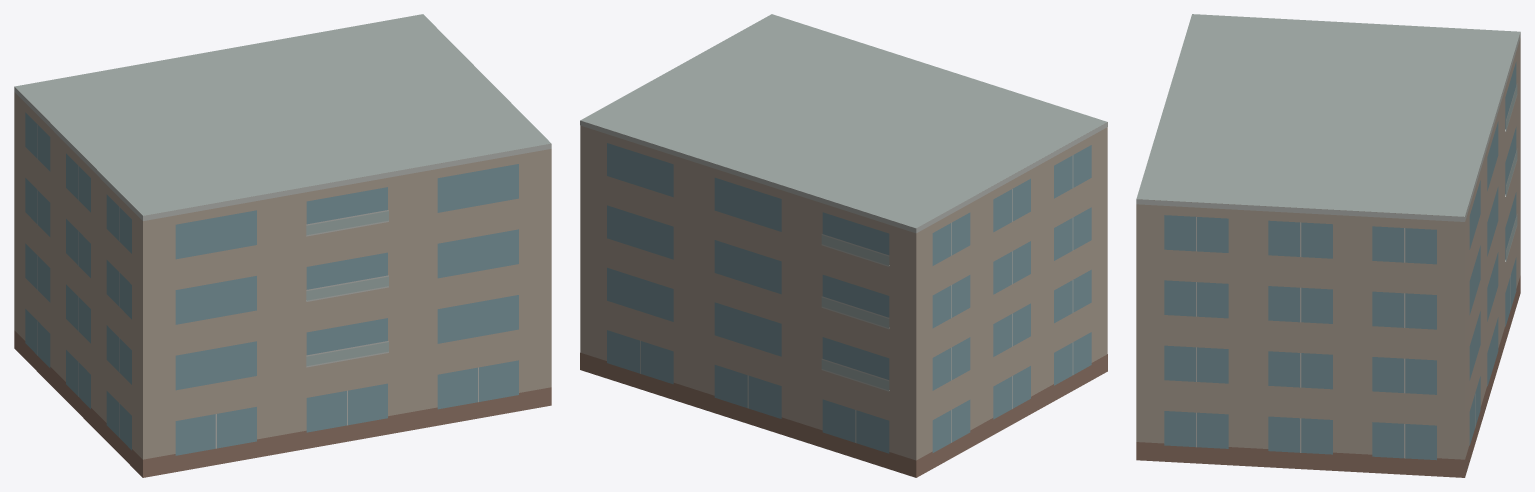
File: residential-9a403d20-5fc7-4570-a8d5-ce96b3ff846b.glb
3 renders of one model, left to right at view 1: azimuth 30°, elevation 25°; view 2: azimuth 150°, elevation 25°; view 3: azimuth 270°, elevation 25°, orthographic. The views are drawn at different scales.
Parts seen in each view (by area): view 1: residential-9a403d20-5fc7-4570-a8d5-ce96b3ff846b.tmp; view 2: residential-9a403d20-5fc7-4570-a8d5-ce96b3ff846b.tmp; view 3: residential-9a403d20-5fc7-4570-a8d5-ce96b3ff846b.tmp.
Boxes of the visible parts, x1=… form: residential-9a403d20-5fc7-4570-a8d5-ce96b3ff846b.tmp: x1=14, y1=14, x2=551, y2=477; residential-9a403d20-5fc7-4570-a8d5-ce96b3ff846b.tmp: x1=580, y1=14, x2=1107, y2=477; residential-9a403d20-5fc7-4570-a8d5-ce96b3ff846b.tmp: x1=1136, y1=14, x2=1520, y2=477.
Bounding box in the file's own units: 20.34 × 12.2 × 16.29.
